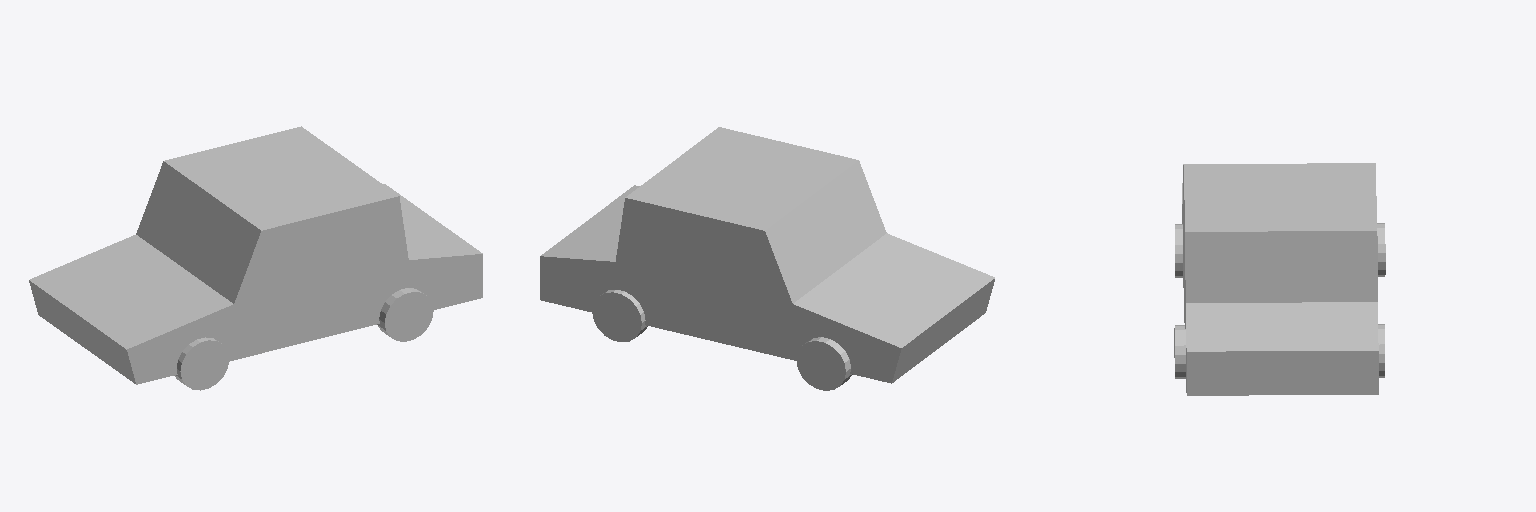
File: car_6.obj
3 renders of one model, left to right at view 1: azimuth 30°, elevation 25°; view 2: azimuth 150°, elevation 25°; view 3: azimuth 270°, elevation 25°, orthographic.
Parts seen in each view (by area): view 1: Car_06; view 2: Car_06; view 3: Car_06.
Part boxes in pixels (x1,y1,x2,y2): Car_06: (29, 126, 482, 390); Car_06: (540, 127, 994, 390); Car_06: (1174, 163, 1385, 395).
Bounding box in the file's own units: 1.79 × 0.6725 × 0.9063.